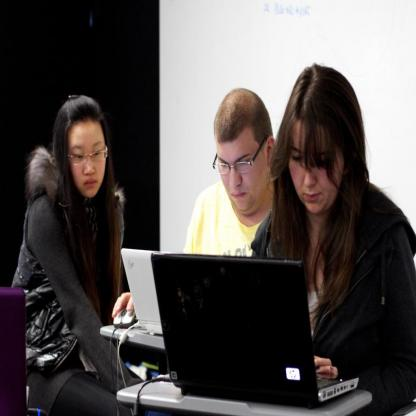board: (151, 250, 359, 401), (120, 250, 184, 336)
